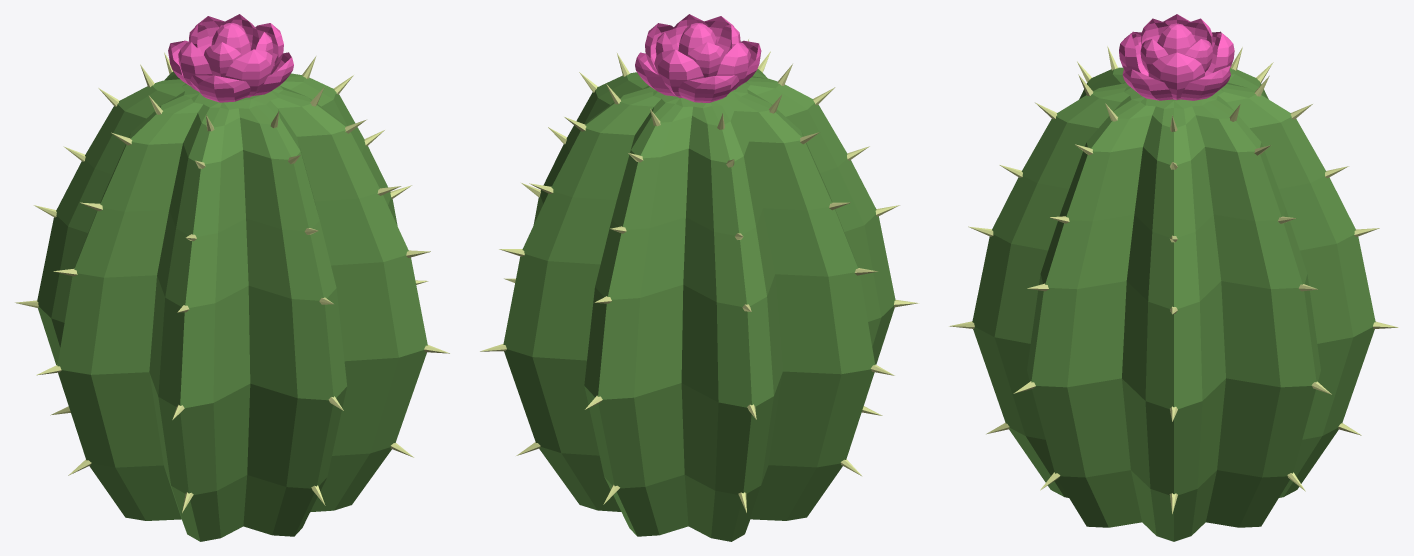
Rendered from Cactus_001.fbx.
3 views of the same model, side by side, from view 1: azimuth 30°, elevation 25°; view 2: azimuth 150°, elevation 25°; view 3: azimuth 270°, elevation 25° (orthographic).
Visible parts, largest first — view 1: Cactus.001; view 2: Cactus.001; view 3: Cactus.001.
Boxes of the visible parts, bbox=[...] form: Cactus.001: bbox=[15, 14, 449, 541]; Cactus.001: bbox=[480, 14, 919, 541]; Cactus.001: bbox=[949, 14, 1398, 541].
Size of the model in its own units: 206 by 234 by 206.
